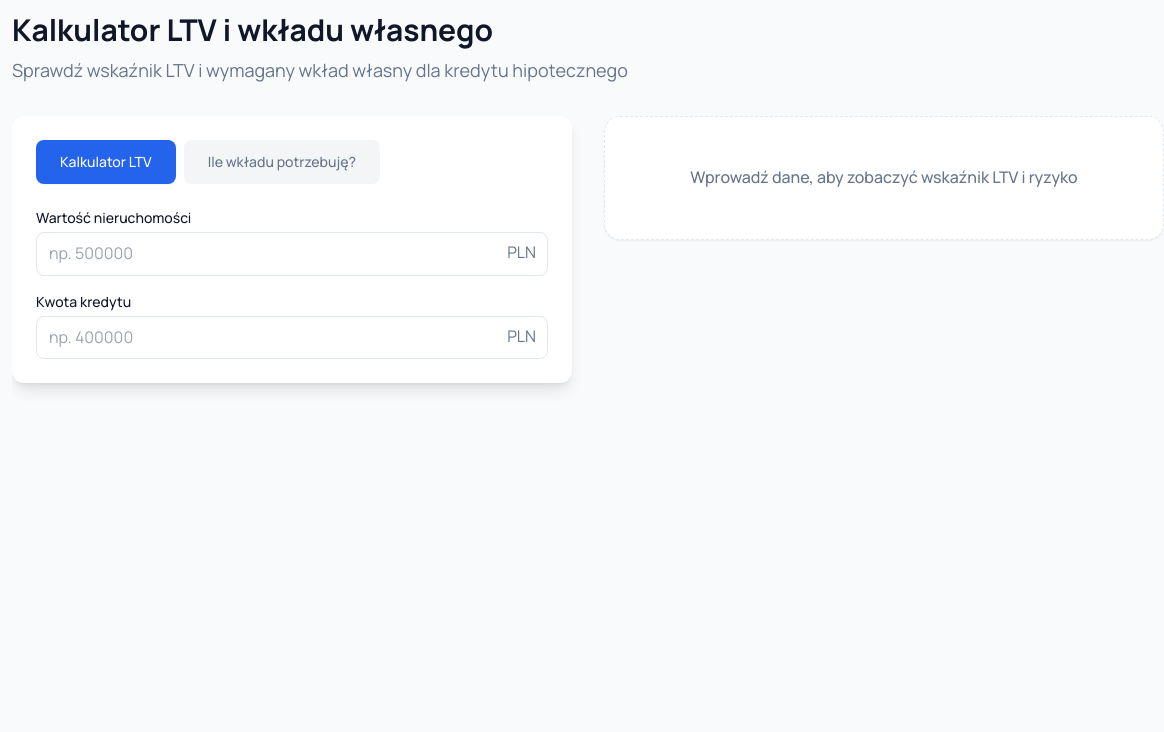
Test: LTVCalc › shows LTV result after entering values
This screenshot has width=1164, height=732.
Type "500000" into the number field labelled "Wartość nieruchomości". click: (292, 254)
box: [36,232,548,276]
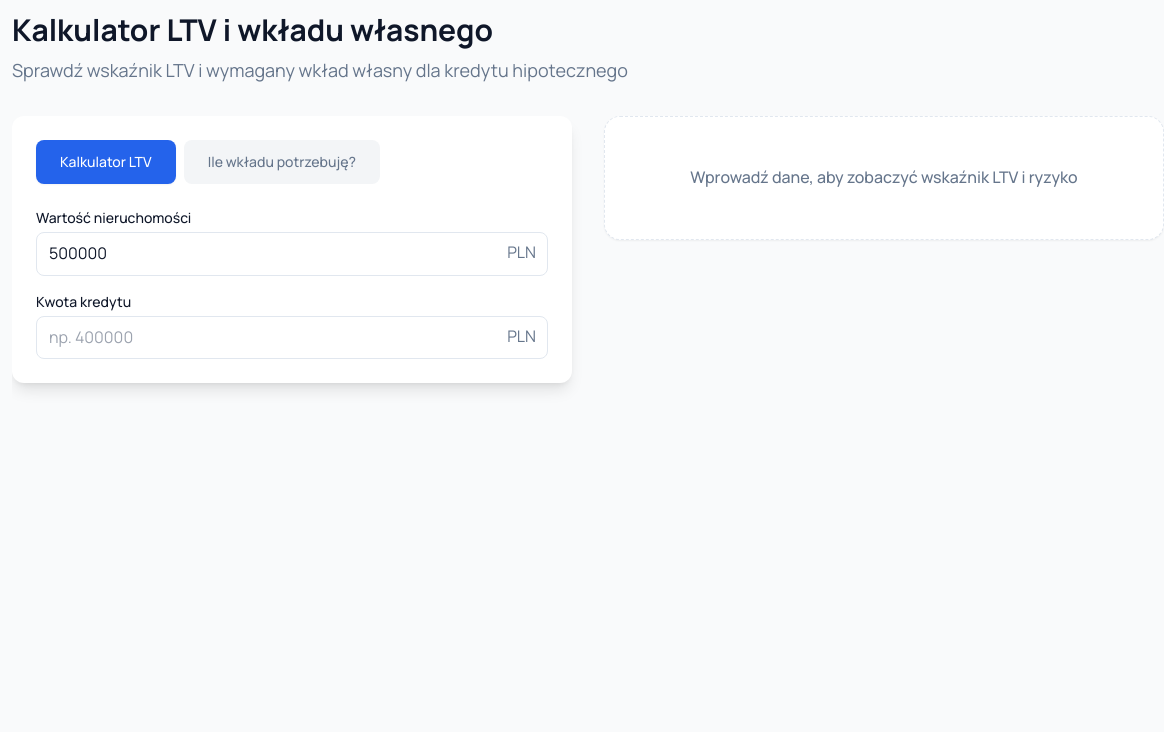
Type "400000" into the number field labelled "Kwota kredytu". click: (292, 337)
box: [36,316,548,359]
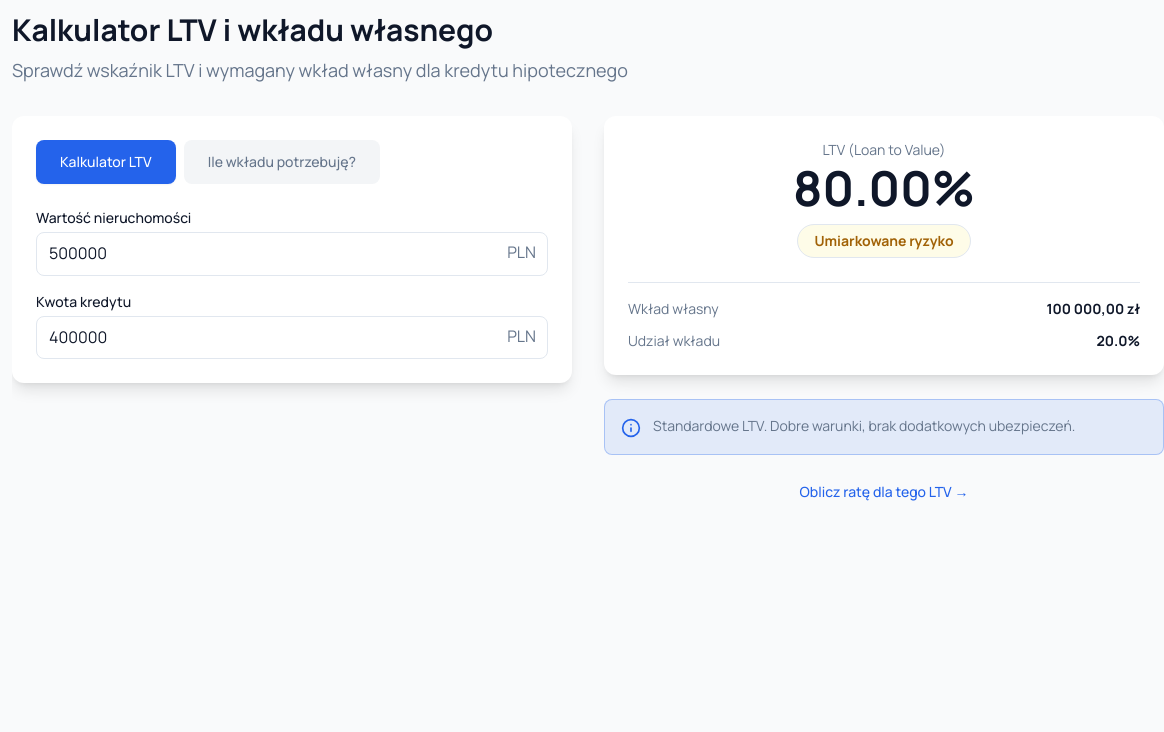
Result: the text "80.00%" is shown at [793,155,975,220]
